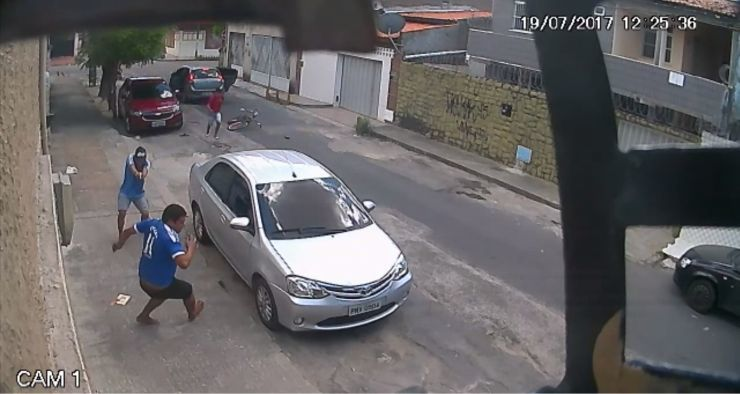Humano: (137, 193, 204, 330), (118, 145, 152, 221), (205, 89, 227, 139)
